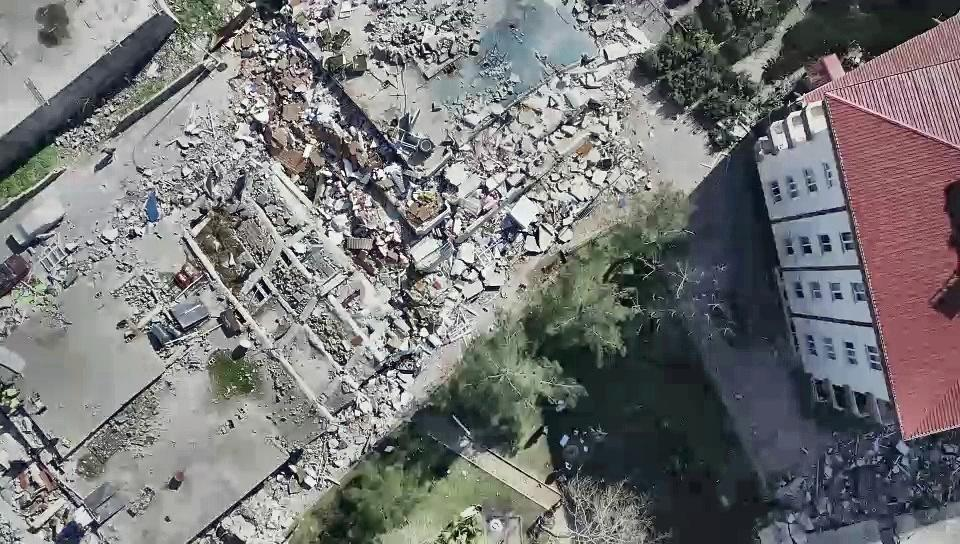kapali: (52, 0, 472, 249)
